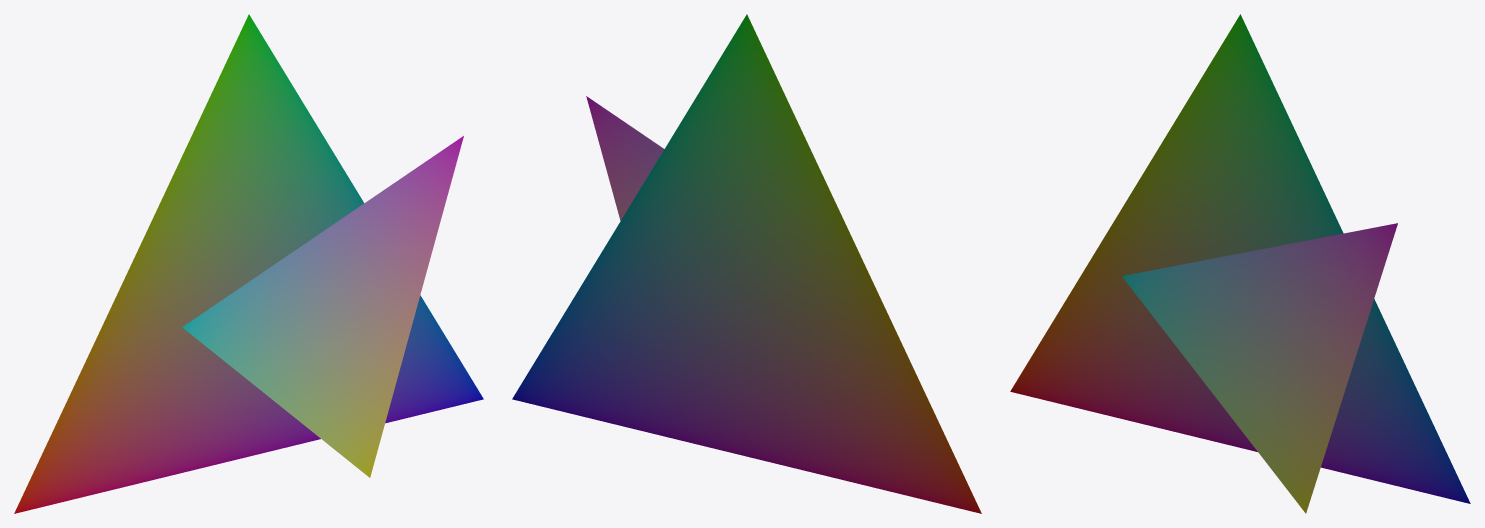
3 views of the same model, side by side, from view 1: azimuth 30°, elevation 25°; view 2: azimuth 150°, elevation 25°; view 3: azimuth 330°, elevation 25° (orthographic). The views are drawn at different scales.
Size of the model in its own units: 2 by 1.9 by 0.2.
